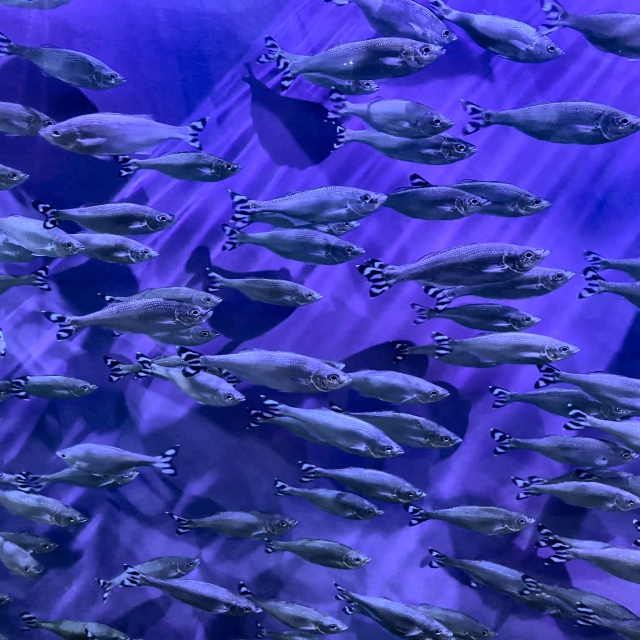fish: (465, 100, 639, 155), (253, 37, 441, 85), (253, 398, 395, 456), (443, 0, 569, 64), (180, 347, 345, 395), (378, 238, 540, 286), (42, 108, 200, 155), (10, 39, 134, 96), (398, 328, 582, 366), (295, 458, 440, 505), (412, 173, 556, 220), (492, 425, 632, 471), (336, 587, 455, 639), (268, 479, 400, 524), (225, 227, 366, 269), (34, 298, 211, 331), (491, 382, 625, 425), (435, 267, 579, 307), (135, 358, 251, 407), (538, 582, 639, 637), (526, 479, 639, 528), (335, 124, 480, 162), (428, 546, 532, 597), (234, 185, 378, 221), (0, 472, 90, 529), (152, 580, 263, 625), (321, 98, 450, 136), (170, 507, 305, 543), (343, 368, 459, 409), (539, 361, 639, 408), (367, 404, 467, 451), (117, 149, 239, 187), (44, 197, 180, 231), (411, 498, 525, 538), (561, 8, 639, 66), (273, 531, 381, 572), (62, 445, 194, 477), (346, 0, 451, 40), (552, 524, 639, 571), (212, 269, 320, 306), (420, 301, 555, 330), (383, 181, 477, 222), (63, 228, 158, 265), (104, 551, 204, 586), (0, 214, 83, 253), (0, 366, 101, 398), (109, 284, 227, 311), (268, 604, 353, 636), (573, 410, 639, 450), (0, 535, 55, 581), (564, 271, 639, 304), (0, 98, 52, 138), (575, 253, 639, 281), (0, 265, 50, 295), (0, 154, 32, 189)
